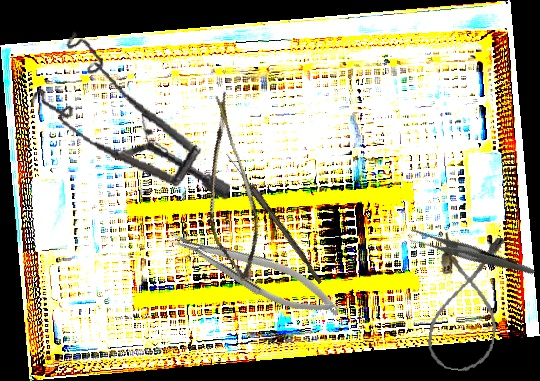Cannula: (424, 230, 509, 375)
Dressing Forceps: (405, 199, 536, 310)
Micro Scissor: (170, 90, 286, 286)
Needle Holder: (163, 213, 347, 331)
Speculum: (21, 25, 249, 202)
Surgical Spoon: (222, 151, 326, 285)
